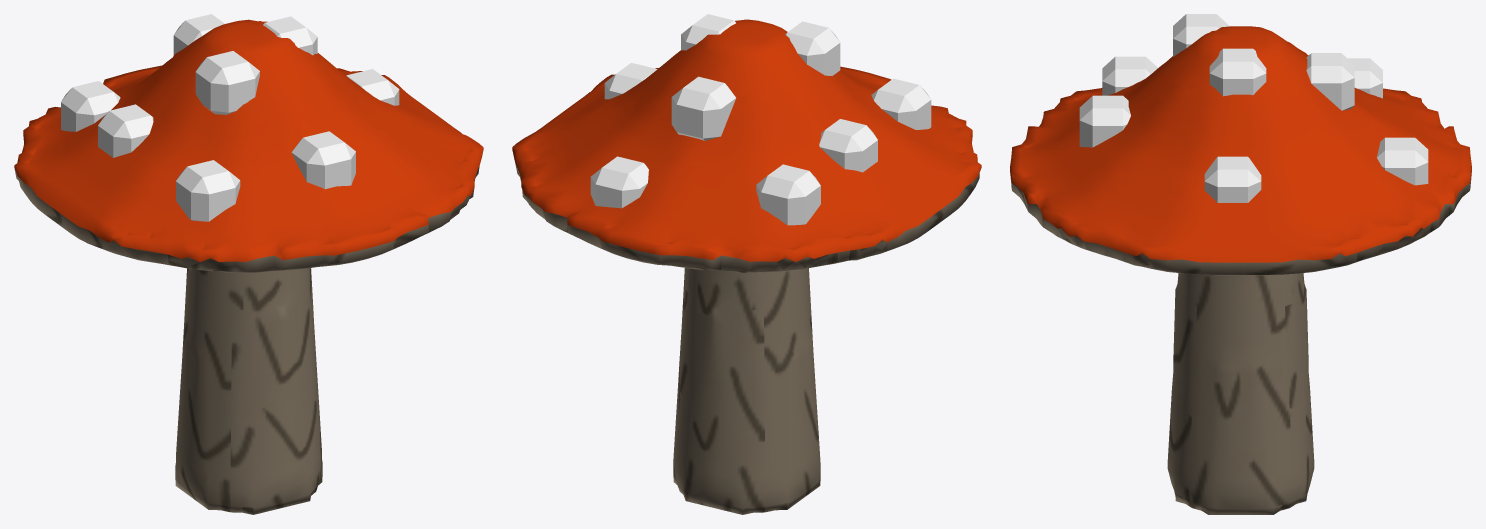
File: item-shroom.glb
The picture shows the model from 3 angles, left to right: view 1: azimuth 30°, elevation 25°; view 2: azimuth 150°, elevation 25°; view 3: azimuth 270°, elevation 25°; orthographic projection.
Size of the model in its own units: 7.18 by 8.09 by 7.53.
Materials: 3 (1 with a texture image).
